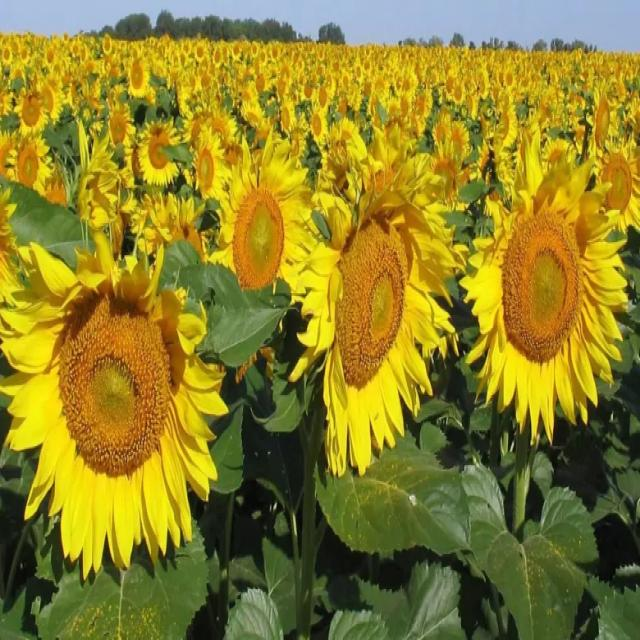sunflower: (8, 205, 223, 598), (462, 144, 629, 467), (319, 135, 452, 470), (216, 116, 311, 352), (130, 106, 184, 190), (15, 75, 52, 135), (125, 37, 152, 103)
